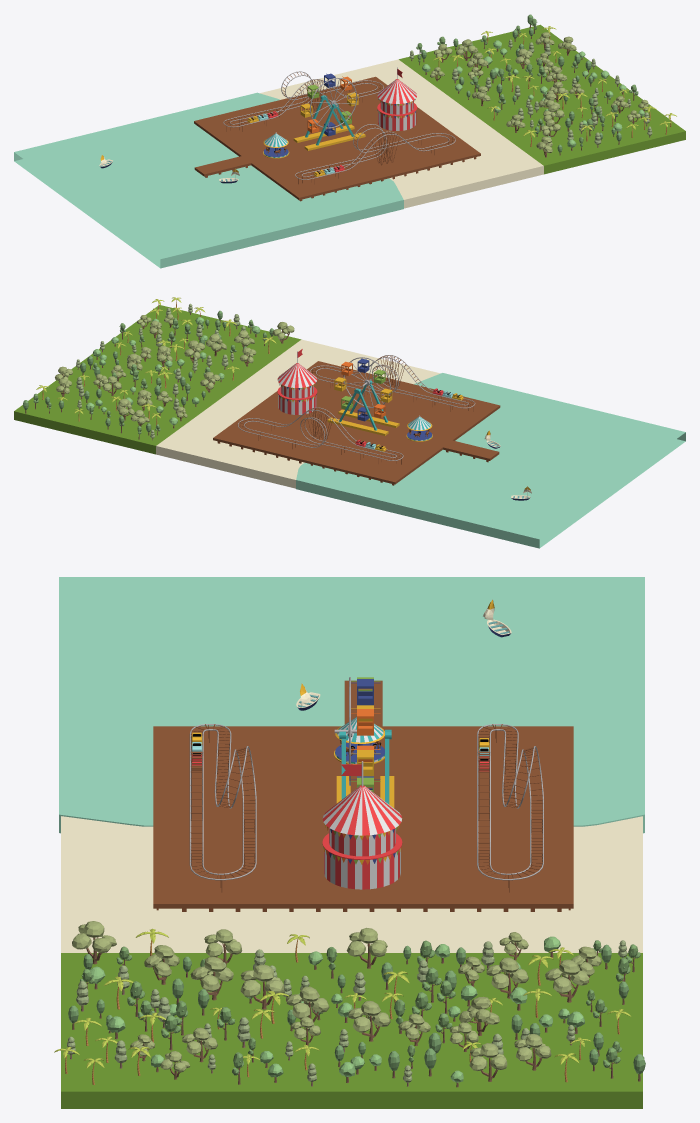
File: D4_PACIFIC_PARK.fbx
3 renders of one model, top to bottom at view 1: azimuth 30°, elevation 25°; view 2: azimuth 150°, elevation 25°; view 3: azimuth 270°, elevation 25°, orthographic. The views are drawn at different scales.
Visible parts, largest first — view 1: Cube.054, Cube.053, Cube.048, Cylinder.025, Cube.051, Cube.050, BezierCurve, BezierCurve.001, Cylinder.024, Cylinder.028, Cylinder.023; view 2: Cube.054, Cube.053, Cube.048, Cylinder.025, Cube.051, Cube.050, BezierCurve.001, BezierCurve, Cylinder.028, Cylinder.043, Cylinder.024; view 3: Cube.054, Cube.053, Cube.048, Cylinder.025, BezierCurve, Cylinder.043, Cylinder.023, BezierCurve.001, Cube.051, Cube.050, Tree_stem_01.161, Tree_stem_01.071 (+12 smaller).
Part boxes in pixels (x1=…): Cube.054: x1=14, y1=92, x2=403, y2=268; Cube.053: x1=260, y1=24, x2=685, y2=208; Cube.048: x1=194, y1=76, x2=480, y2=200; Cylinder.025: x1=377, y1=79, x2=417, y2=130; Cube.051: x1=300, y1=73, x2=358, y2=136; Cube.050: x1=293, y1=95, x2=365, y2=150; BezierCurve: x1=295, y1=124, x2=455, y2=179; BezierCurve.001: x1=223, y1=71, x2=383, y2=127; Cylinder.024: x1=310, y1=78, x2=357, y2=128; Cylinder.028: x1=263, y1=133, x2=289, y2=158; Cylinder.023: x1=296, y1=124, x2=454, y2=179; Cube.054: x1=296, y1=373, x2=685, y2=548; Cube.053: x1=14, y1=305, x2=440, y2=488; Cube.048: x1=213, y1=361, x2=500, y2=484; Cylinder.025: x1=277, y1=363, x2=317, y2=414; Cube.051: x1=334, y1=358, x2=392, y2=421; Cube.050: x1=327, y1=380, x2=399, y2=435; BezierCurve.001: x1=237, y1=407, x2=403, y2=460; BezierCurve: x1=309, y1=355, x2=475, y2=408; Cylinder.028: x1=406, y1=416, x2=432, y2=441; Cylinder.043: x1=238, y1=407, x2=402, y2=460; Cylinder.024: x1=343, y1=357, x2=390, y2=407; Cube.054: x1=59, y1=577, x2=644, y2=833; Cube.053: x1=61, y1=816, x2=642, y2=1108; Cube.048: x1=153, y1=680, x2=573, y2=908; Cylinder.025: x1=322, y1=785, x2=402, y2=889; BezierCurve: x1=189, y1=724, x2=256, y2=880; Cylinder.043: x1=478, y1=724, x2=542, y2=878; Cylinder.023: x1=190, y1=724, x2=255, y2=878; BezierCurve.001: x1=477, y1=724, x2=543, y2=880; Cube.051: x1=351, y1=677, x2=380, y2=792; Cube.050: x1=336, y1=729, x2=394, y2=807; Tree_stem_01.161: x1=240, y1=964, x2=284, y2=1009; Tree_stem_01.071: x1=545, y1=959, x2=589, y2=1002.
Size of the model in its own units: 20806 by 2900 by 10136.
17 materials, 5 textured.
